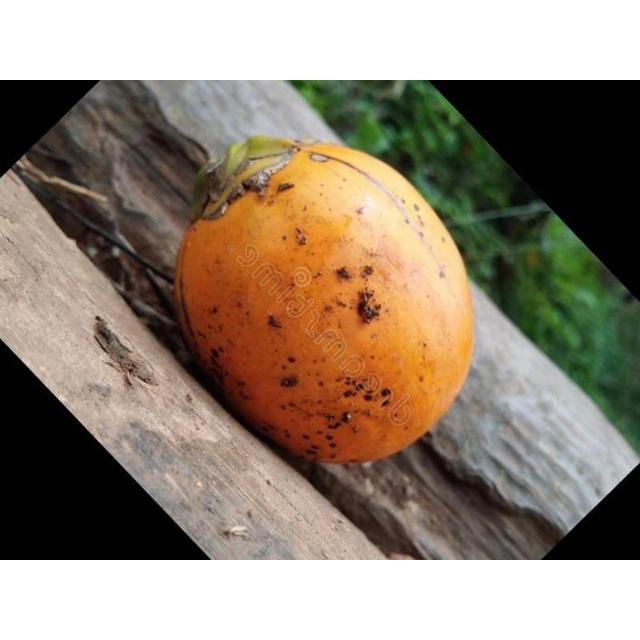good: (171, 135, 477, 466)
